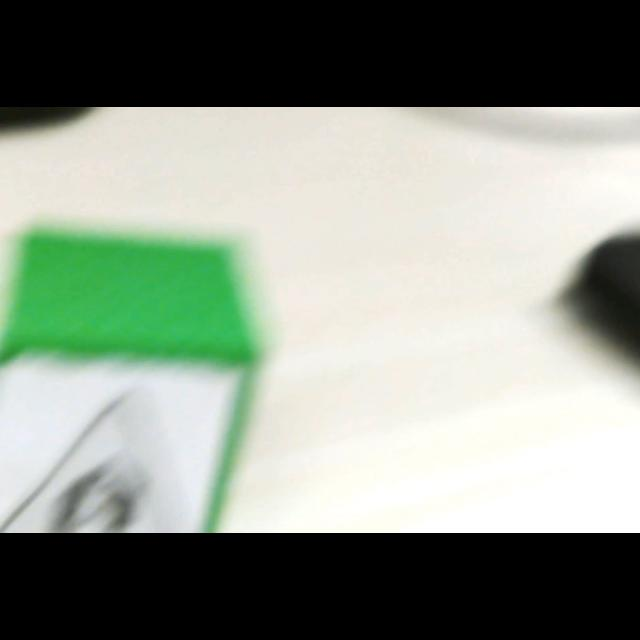Earthquake: (0, 390, 184, 533)
